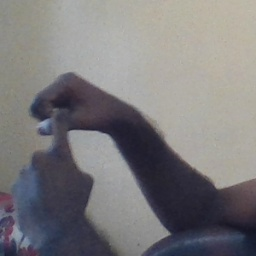Q: (10, 70, 105, 219)
